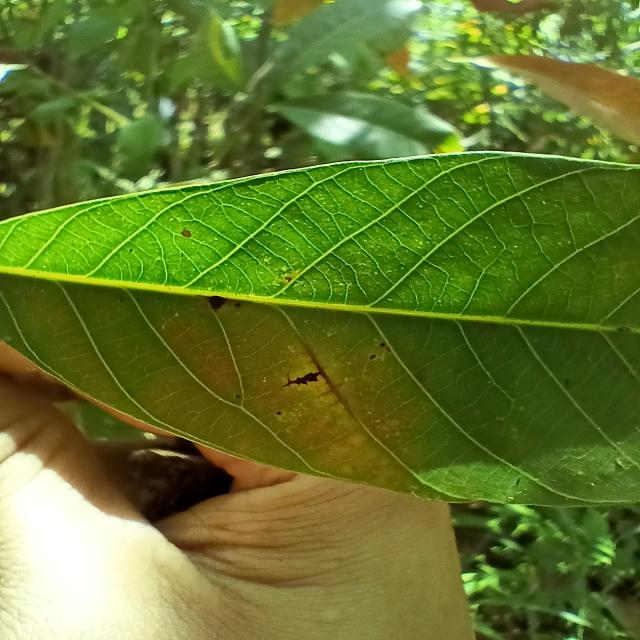Colletotrichum: (380, 342, 385, 347), (276, 411, 282, 415)
Corynespora: (281, 372, 323, 388)
